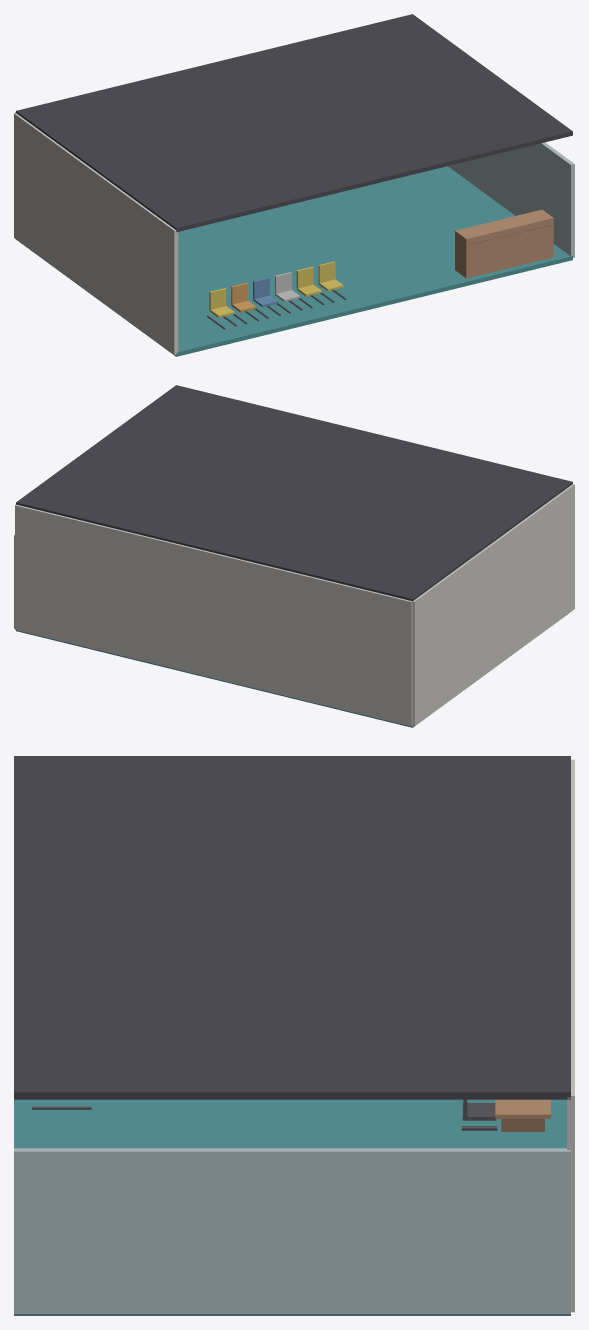
File: lab_room.glb
3 views of the same model, one above another, from view 1: azimuth 30°, elevation 25°; view 2: azimuth 150°, elevation 25°; view 3: azimuth 270°, elevation 25° (orthographic). The views are drawn at different scales.
Parts seen in each view (by area): view 1: geometry_0; view 2: geometry_0; view 3: geometry_0.
Part boxes in pixels (bbox=[...]): geometry_0: bbox=[14, 14, 574, 356]; geometry_0: bbox=[14, 385, 574, 727]; geometry_0: bbox=[14, 756, 574, 1315].
Size of the model in its own units: 10.1 by 3.1 by 7.05.
